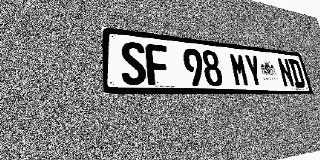8: (201, 49, 224, 86)
9: (182, 47, 206, 86)
D: (288, 59, 306, 88)
F: (145, 43, 170, 85)
M: (229, 52, 250, 87)
N: (276, 58, 295, 87)
S: (120, 41, 147, 85)
Y: (243, 54, 264, 87)
